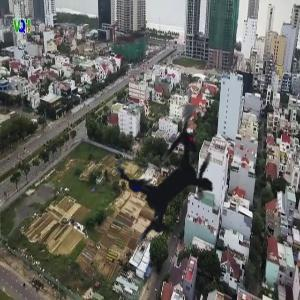drone: (60, 69, 281, 290)
